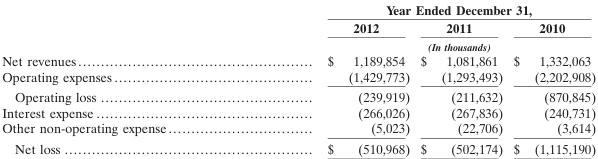table: (1, 1, 595, 156)
table column: (1, 1, 246, 156), (246, 1, 414, 156), (414, 1, 507, 156), (507, 1, 595, 156)
table column header: (1, 1, 595, 52)
table row: (1, 17, 595, 37), (1, 68, 595, 86), (1, 86, 595, 104), (1, 120, 595, 138), (1, 138, 595, 156), (1, 1, 595, 17), (1, 52, 595, 68), (1, 104, 595, 120), (1, 37, 595, 52)
table spanning cell: (246, 1, 595, 17), (246, 37, 595, 52)
